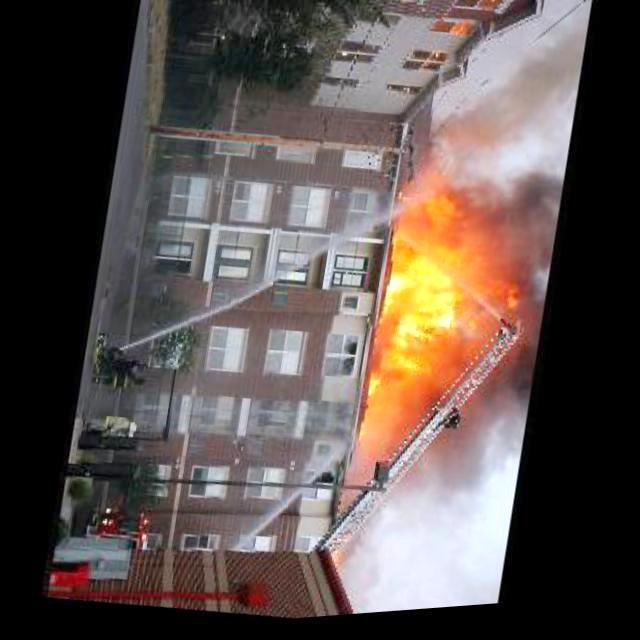fire: (363, 168, 549, 440), (430, 36, 580, 190)
